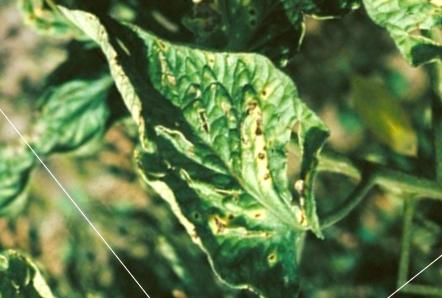Tomato Septoria leaf spot: (25, 0, 405, 298)
